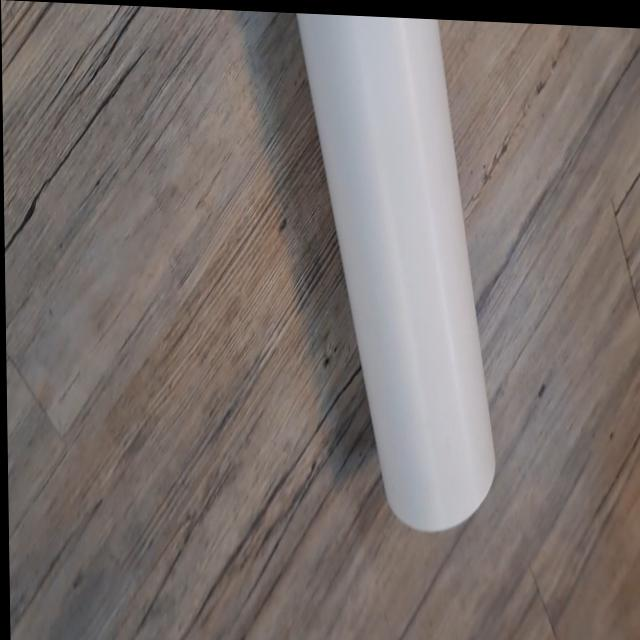CORAL: (288, 13, 497, 540)
